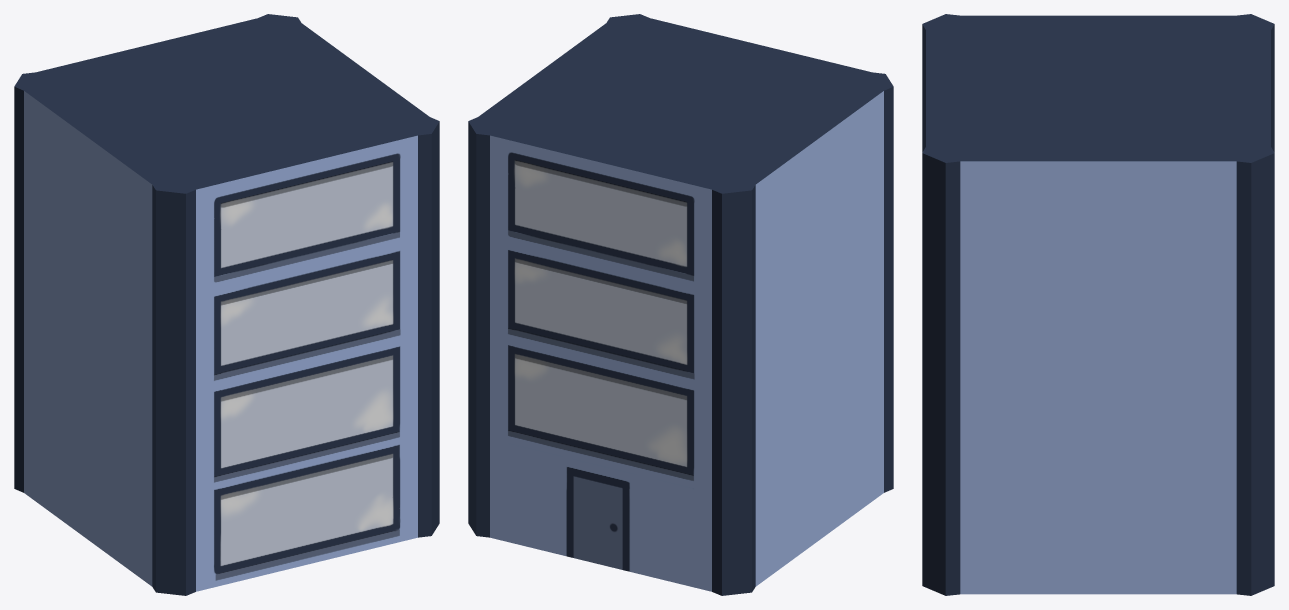
The model's file is Building6.fbx.
3 renders of one model, left to right at view 1: azimuth 30°, elevation 25°; view 2: azimuth 150°, elevation 25°; view 3: azimuth 270°, elevation 25°, orthographic. The views are drawn at different scales.
Visible parts, largest first — view 1: pCube7; view 2: pCube7; view 3: pCube7.
Part boxes in pixels (x1,y1,x2,y2): pCube7: [14, 14, 439, 595]; pCube7: [468, 14, 893, 595]; pCube7: [922, 14, 1274, 595].
Bounding box in the file's own units: 2.71 × 3.67 × 2.71.
